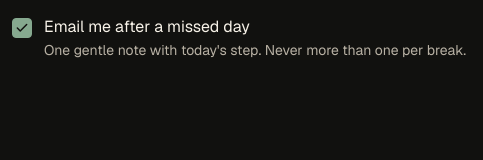
Test: the reminders setting › says so when saving fails
The image size is (483, 160).
Click the checkbox labelled "Email me after a missed day": (239, 38) [12,16,466,59]
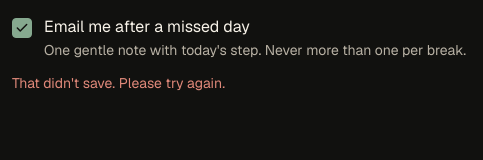
Now the message reads "That didn't save. Please try again.", box [12,74,225,92]
